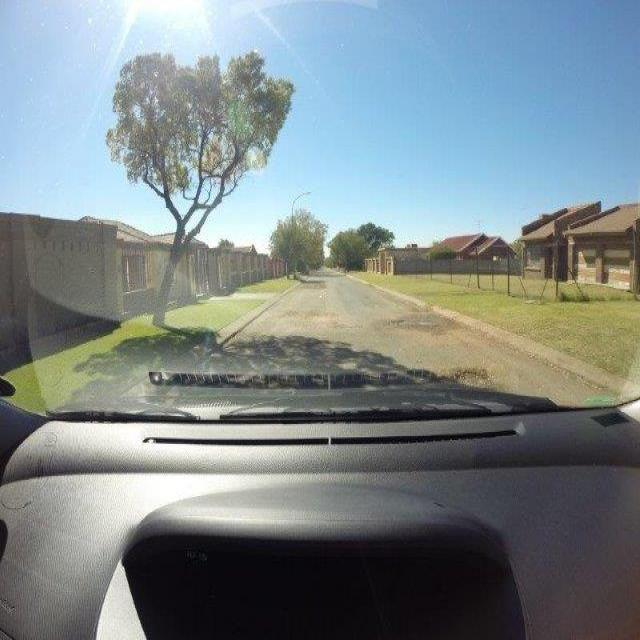lubang: (385, 315, 460, 335), (441, 363, 491, 389)
